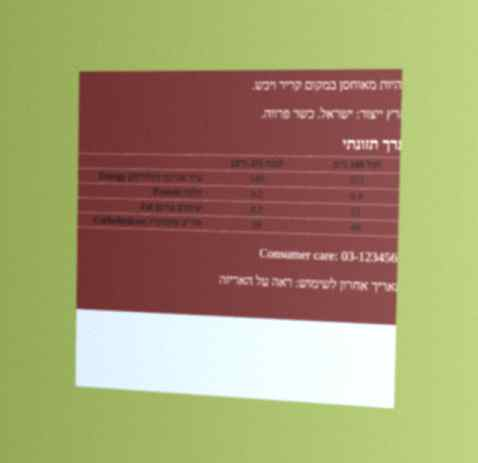carbs: (349, 220, 362, 234)
energy: (348, 173, 365, 187)
fat: (349, 205, 362, 218)
protein: (349, 189, 364, 203)
